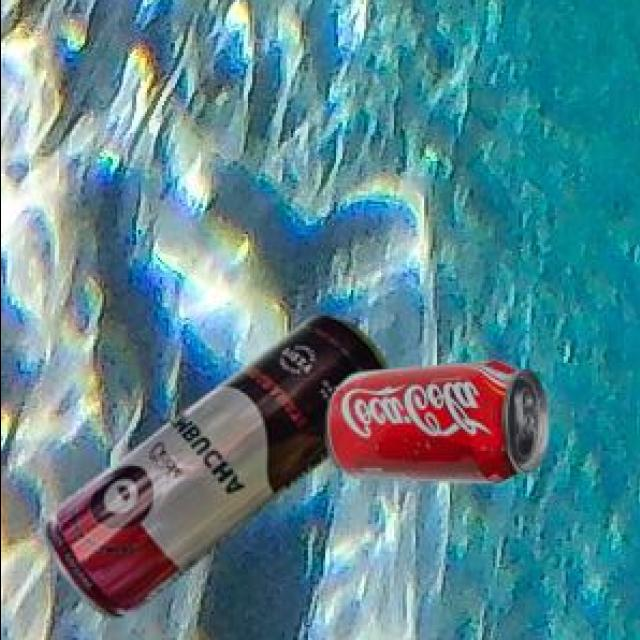logam: (46, 319, 389, 622), (328, 364, 551, 486)
